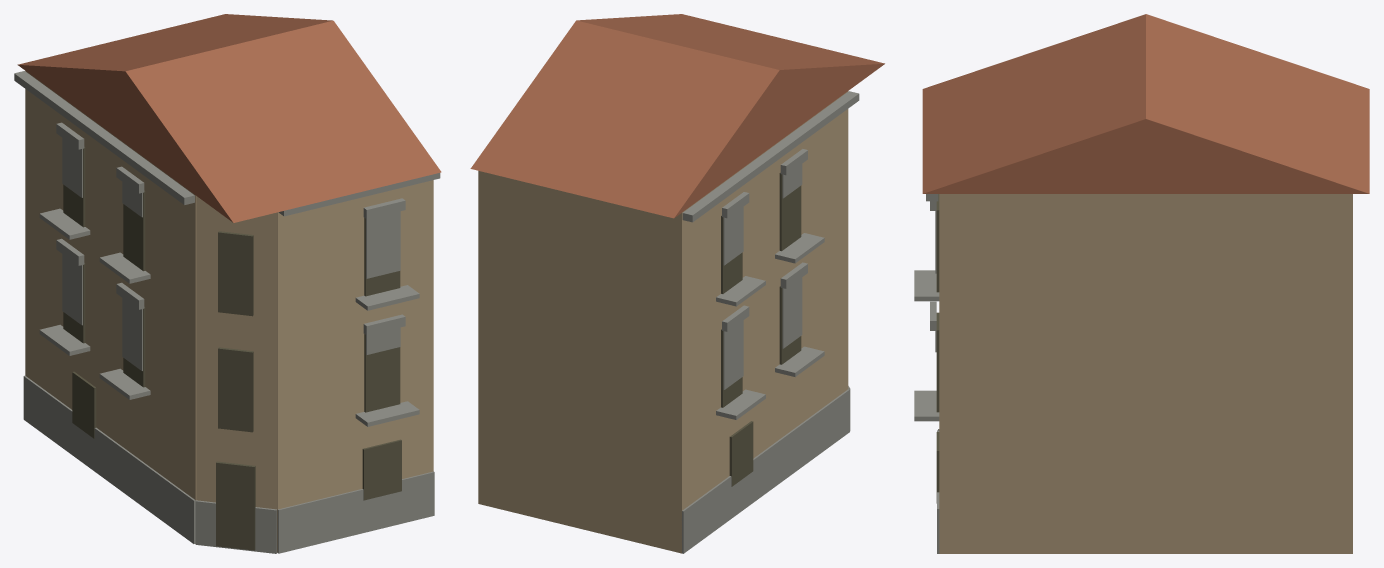
The model's file is SM_Esquina_v1_TresPlantas_LOD1.fbx.
The picture shows the model from 3 angles, left to right: view 1: azimuth 30°, elevation 25°; view 2: azimuth 150°, elevation 25°; view 3: azimuth 270°, elevation 25°; orthographic projection. The views are drawn at different scales.
Parts seen in each view (by area): view 1: SM_pueblo_valenciano_v1_LOD1; view 2: SM_pueblo_valenciano_v1_LOD1; view 3: SM_pueblo_valenciano_v1_LOD1.
Part boxes in pixels (x1=…): SM_pueblo_valenciano_v1_LOD1: x1=14, y1=14, x2=441, y2=553; SM_pueblo_valenciano_v1_LOD1: x1=470, y1=14, x2=884, y2=553; SM_pueblo_valenciano_v1_LOD1: x1=914, y1=14, x2=1369, y2=553.
Bounding box in the file's own units: 6.6 × 11.6 × 11.
